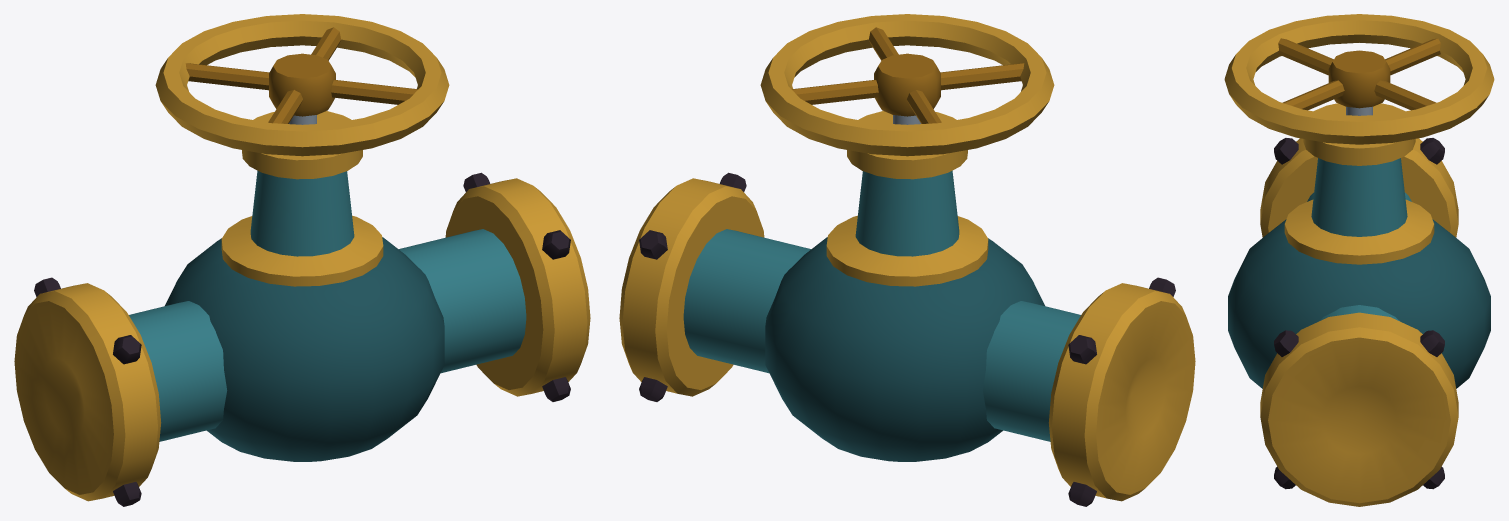
File: Valve_17.glb
3 views of the same model, side by side, from view 1: azimuth 30°, elevation 25°; view 2: azimuth 150°, elevation 25°; view 3: azimuth 270°, elevation 25° (orthographic). The views are drawn at different scales.
Parts seen in each view (by area): view 1: Valve_17; view 2: Valve_17; view 3: Valve_17.
Part boxes in pixels (x1,y1,x2,y2): Valve_17: (14,14,590,506); Valve_17: (619,14,1195,506); Valve_17: (1224,14,1494,506).
Bounding box in the file's own units: 2.62 × 2.01 × 1.4.
